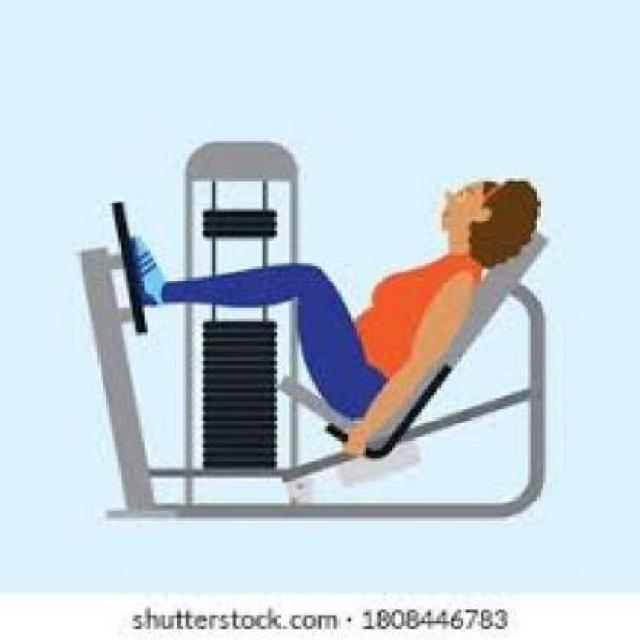leg press: (23, 130, 592, 556)
